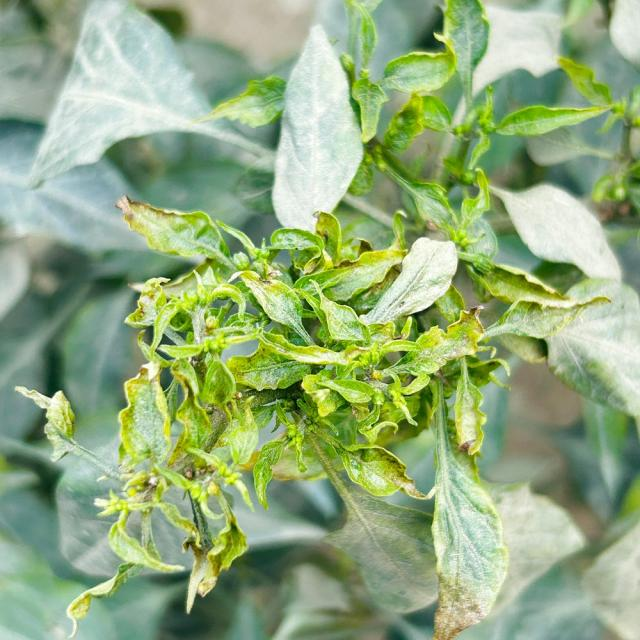Chilli_Leaf_Curl: (9, 1, 637, 638), (114, 194, 492, 510), (25, 0, 281, 191), (427, 369, 509, 638), (269, 22, 365, 236), (360, 235, 459, 328)
